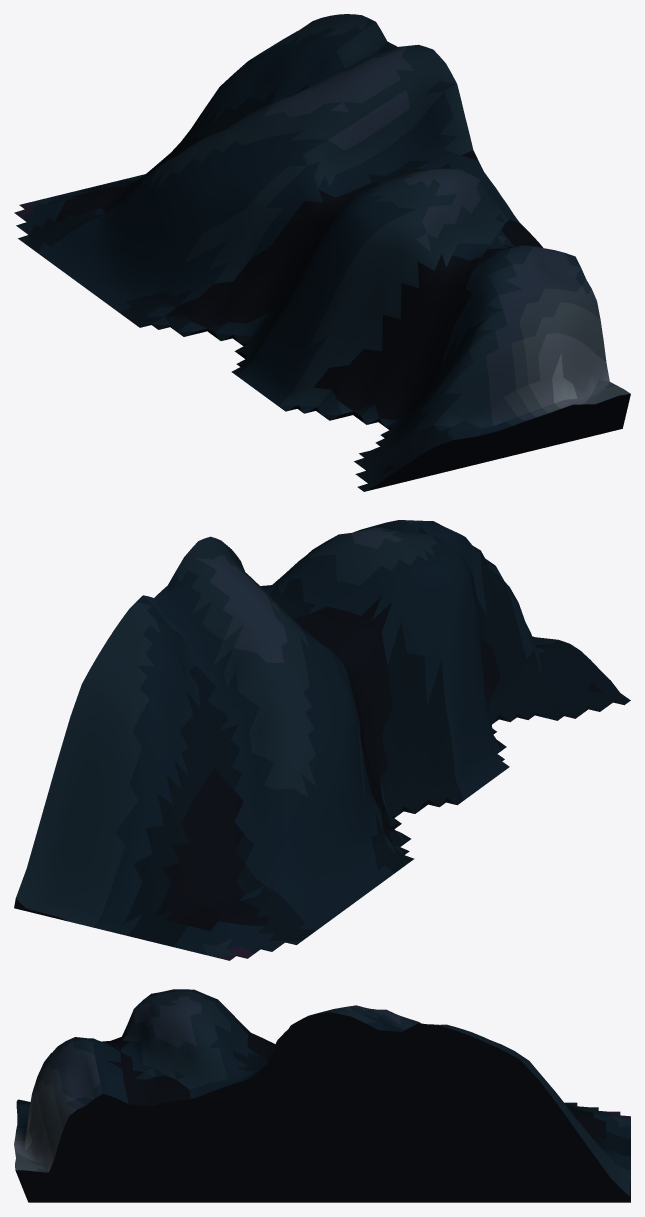
The model's file is gyges_maw_77.glb.
3 renders of one model, top to bottom at view 1: azimuth 30°, elevation 25°; view 2: azimuth 150°, elevation 25°; view 3: azimuth 270°, elevation 25°, orthographic. The views are drawn at different scales.
Visible parts, largest first — view 1: gyges_maw_77; view 2: gyges_maw_77; view 3: gyges_maw_77.
Boxes of the visible parts, <box> form: gyges_maw_77: <box>14,14,630,491</box>; gyges_maw_77: <box>14,520,630,960</box>; gyges_maw_77: <box>14,989,630,1202</box>.
Bounding box in the file's own units: 11 × 9.77 × 28.67.
